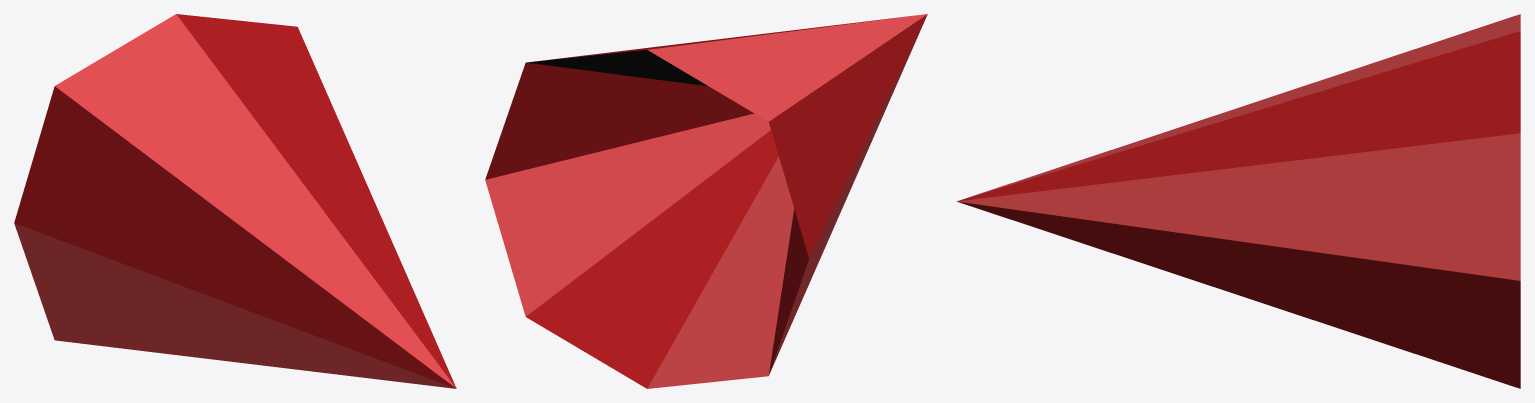
3 views of the same model, side by side, from view 1: azimuth 30°, elevation 25°; view 2: azimuth 150°, elevation 25°; view 3: azimuth 270°, elevation 25° (orthographic).
Visible parts, largest first — view 1: ss3d_72; view 2: ss3d_72; view 3: ss3d_72.
Part boxes in pixels (left/top/right/bottom): ss3d_72: left=14, top=14, right=456, bottom=388; ss3d_72: left=485, top=14, right=927, bottom=388; ss3d_72: left=956, top=14, right=1520, bottom=388.
Size of the model in its own units: 0.625 by 0.625 by 0.9375.
1 material, 1 textured.
